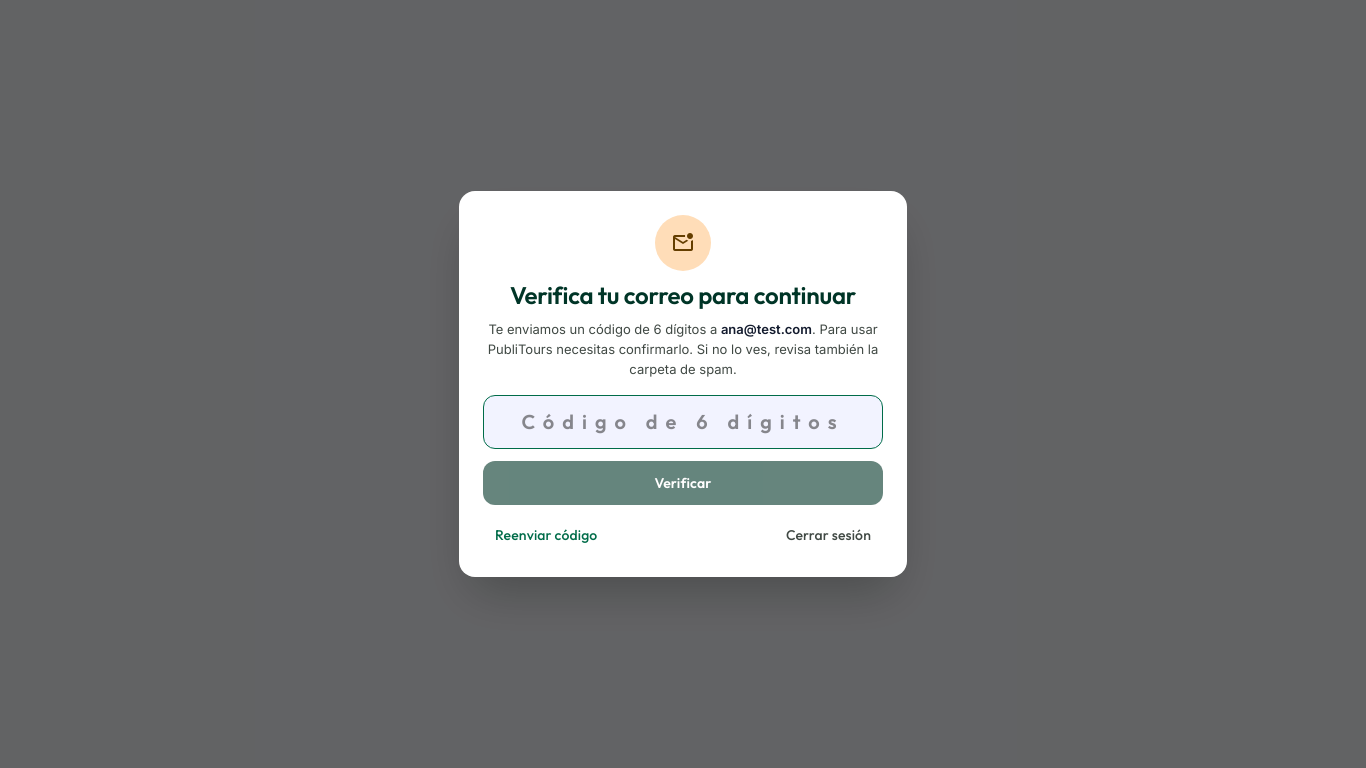
Scenario: AvisoVerificarCorreo › si el reenvío falla (por ejemplo por la espera) muestra el motivo
Click the button "Reenviar código" at (546, 535), box x1=483 y1=517 x2=609 y2=553
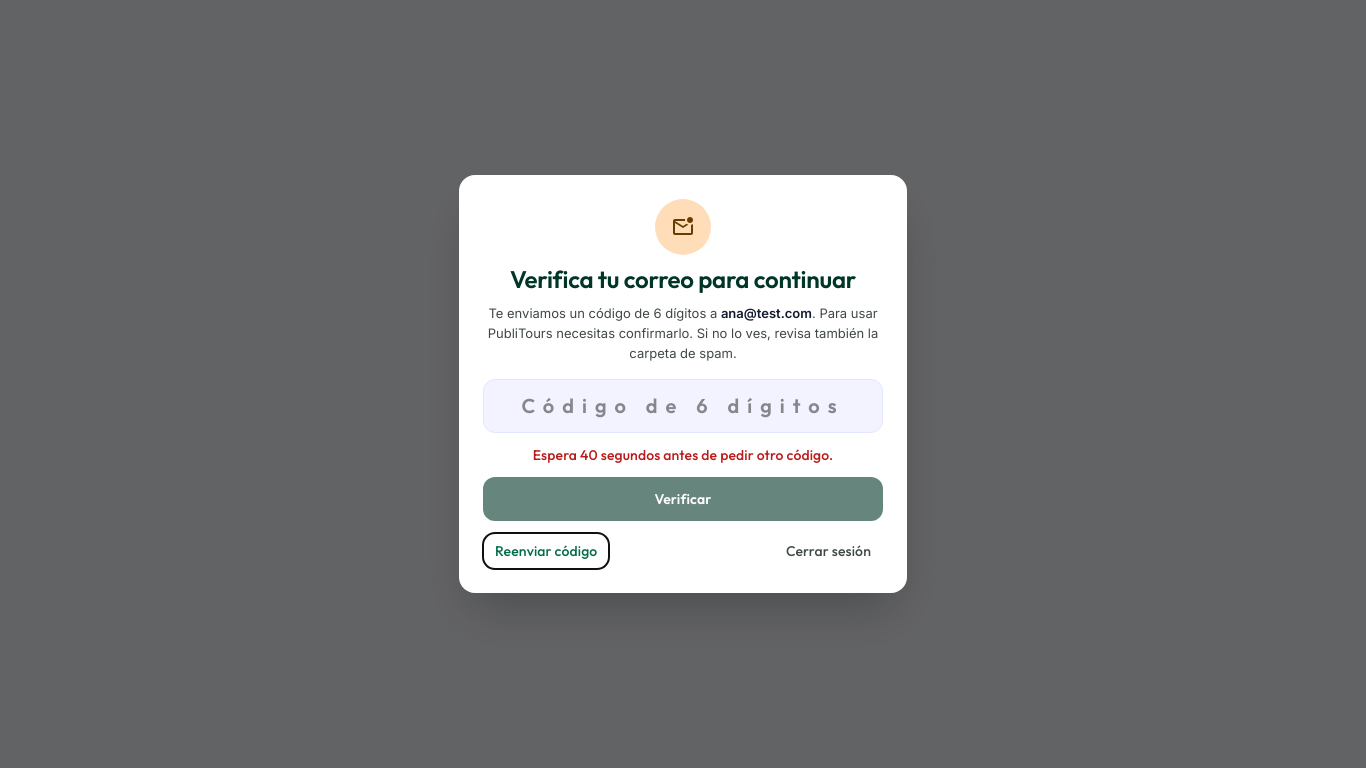
Now the text "Espera 40 segundos antes de pedir otro código." is shown, box x1=533 y1=446 x2=833 y2=464
